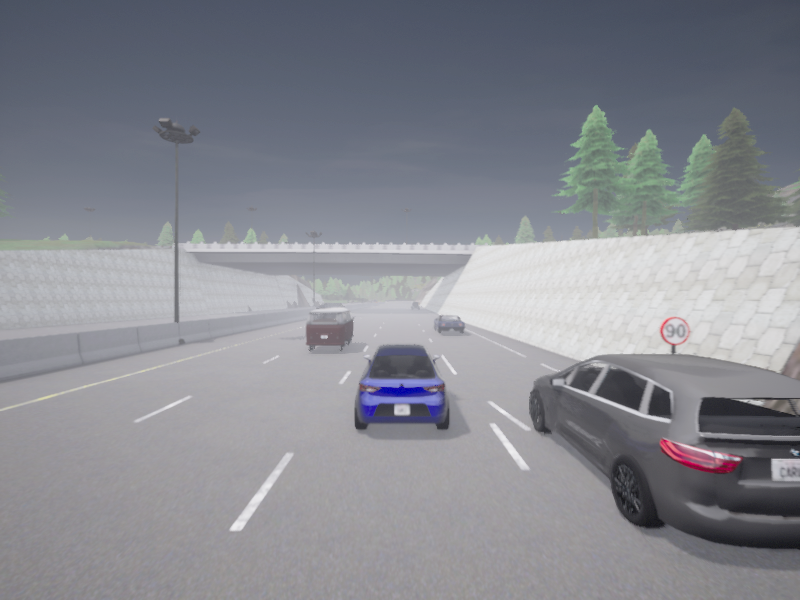vehicle: (530, 355, 799, 548), (354, 343, 449, 429), (306, 308, 354, 350), (434, 315, 464, 332), (316, 303, 344, 309), (411, 302, 419, 309)
